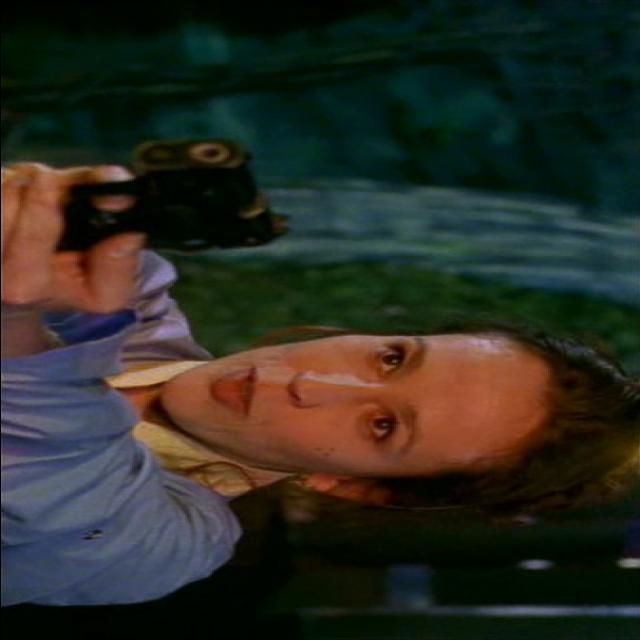weapons: (0, 125, 318, 266)
